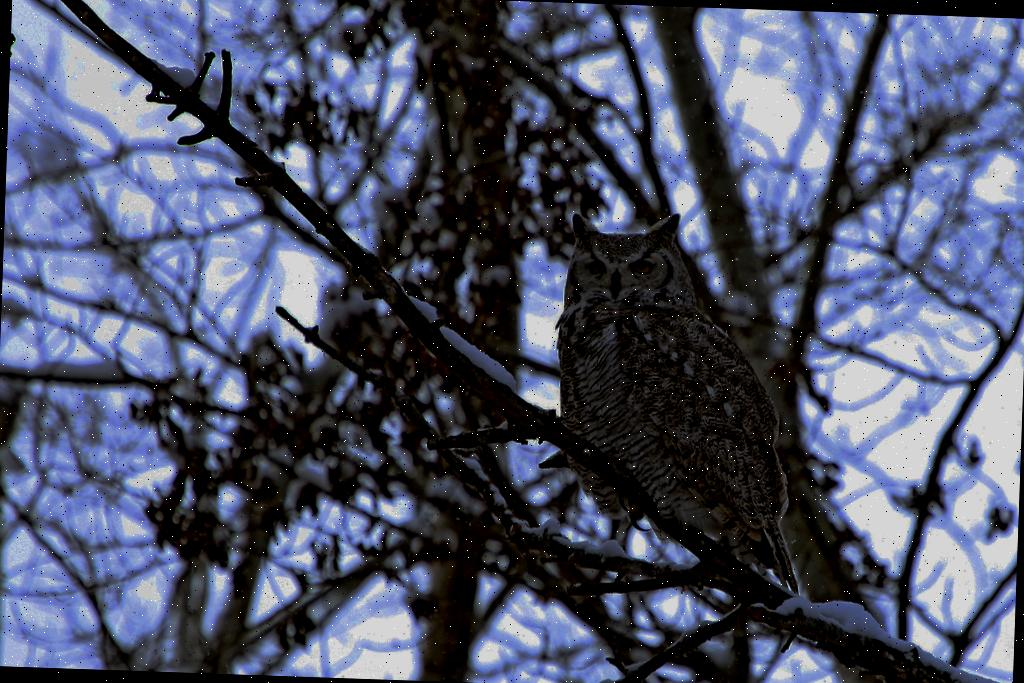Owl: (540, 205, 814, 593)
